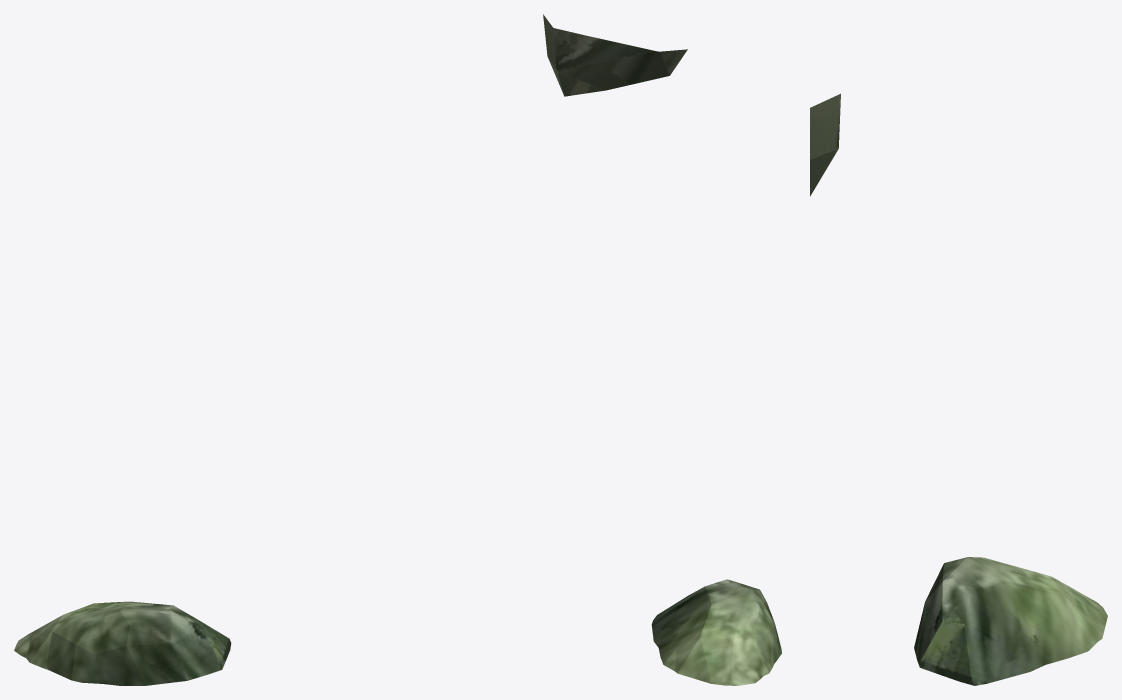
The picture shows the model from 3 angles, left to right: view 1: azimuth 30°, elevation 25°; view 2: azimuth 150°, elevation 25°; view 3: azimuth 270°, elevation 25°; orthographic projection. The views are drawn at different scales.
Bounding box in the file's own units: 1.86 × 2.95 × 1.16.
1 material, 1 textured.
